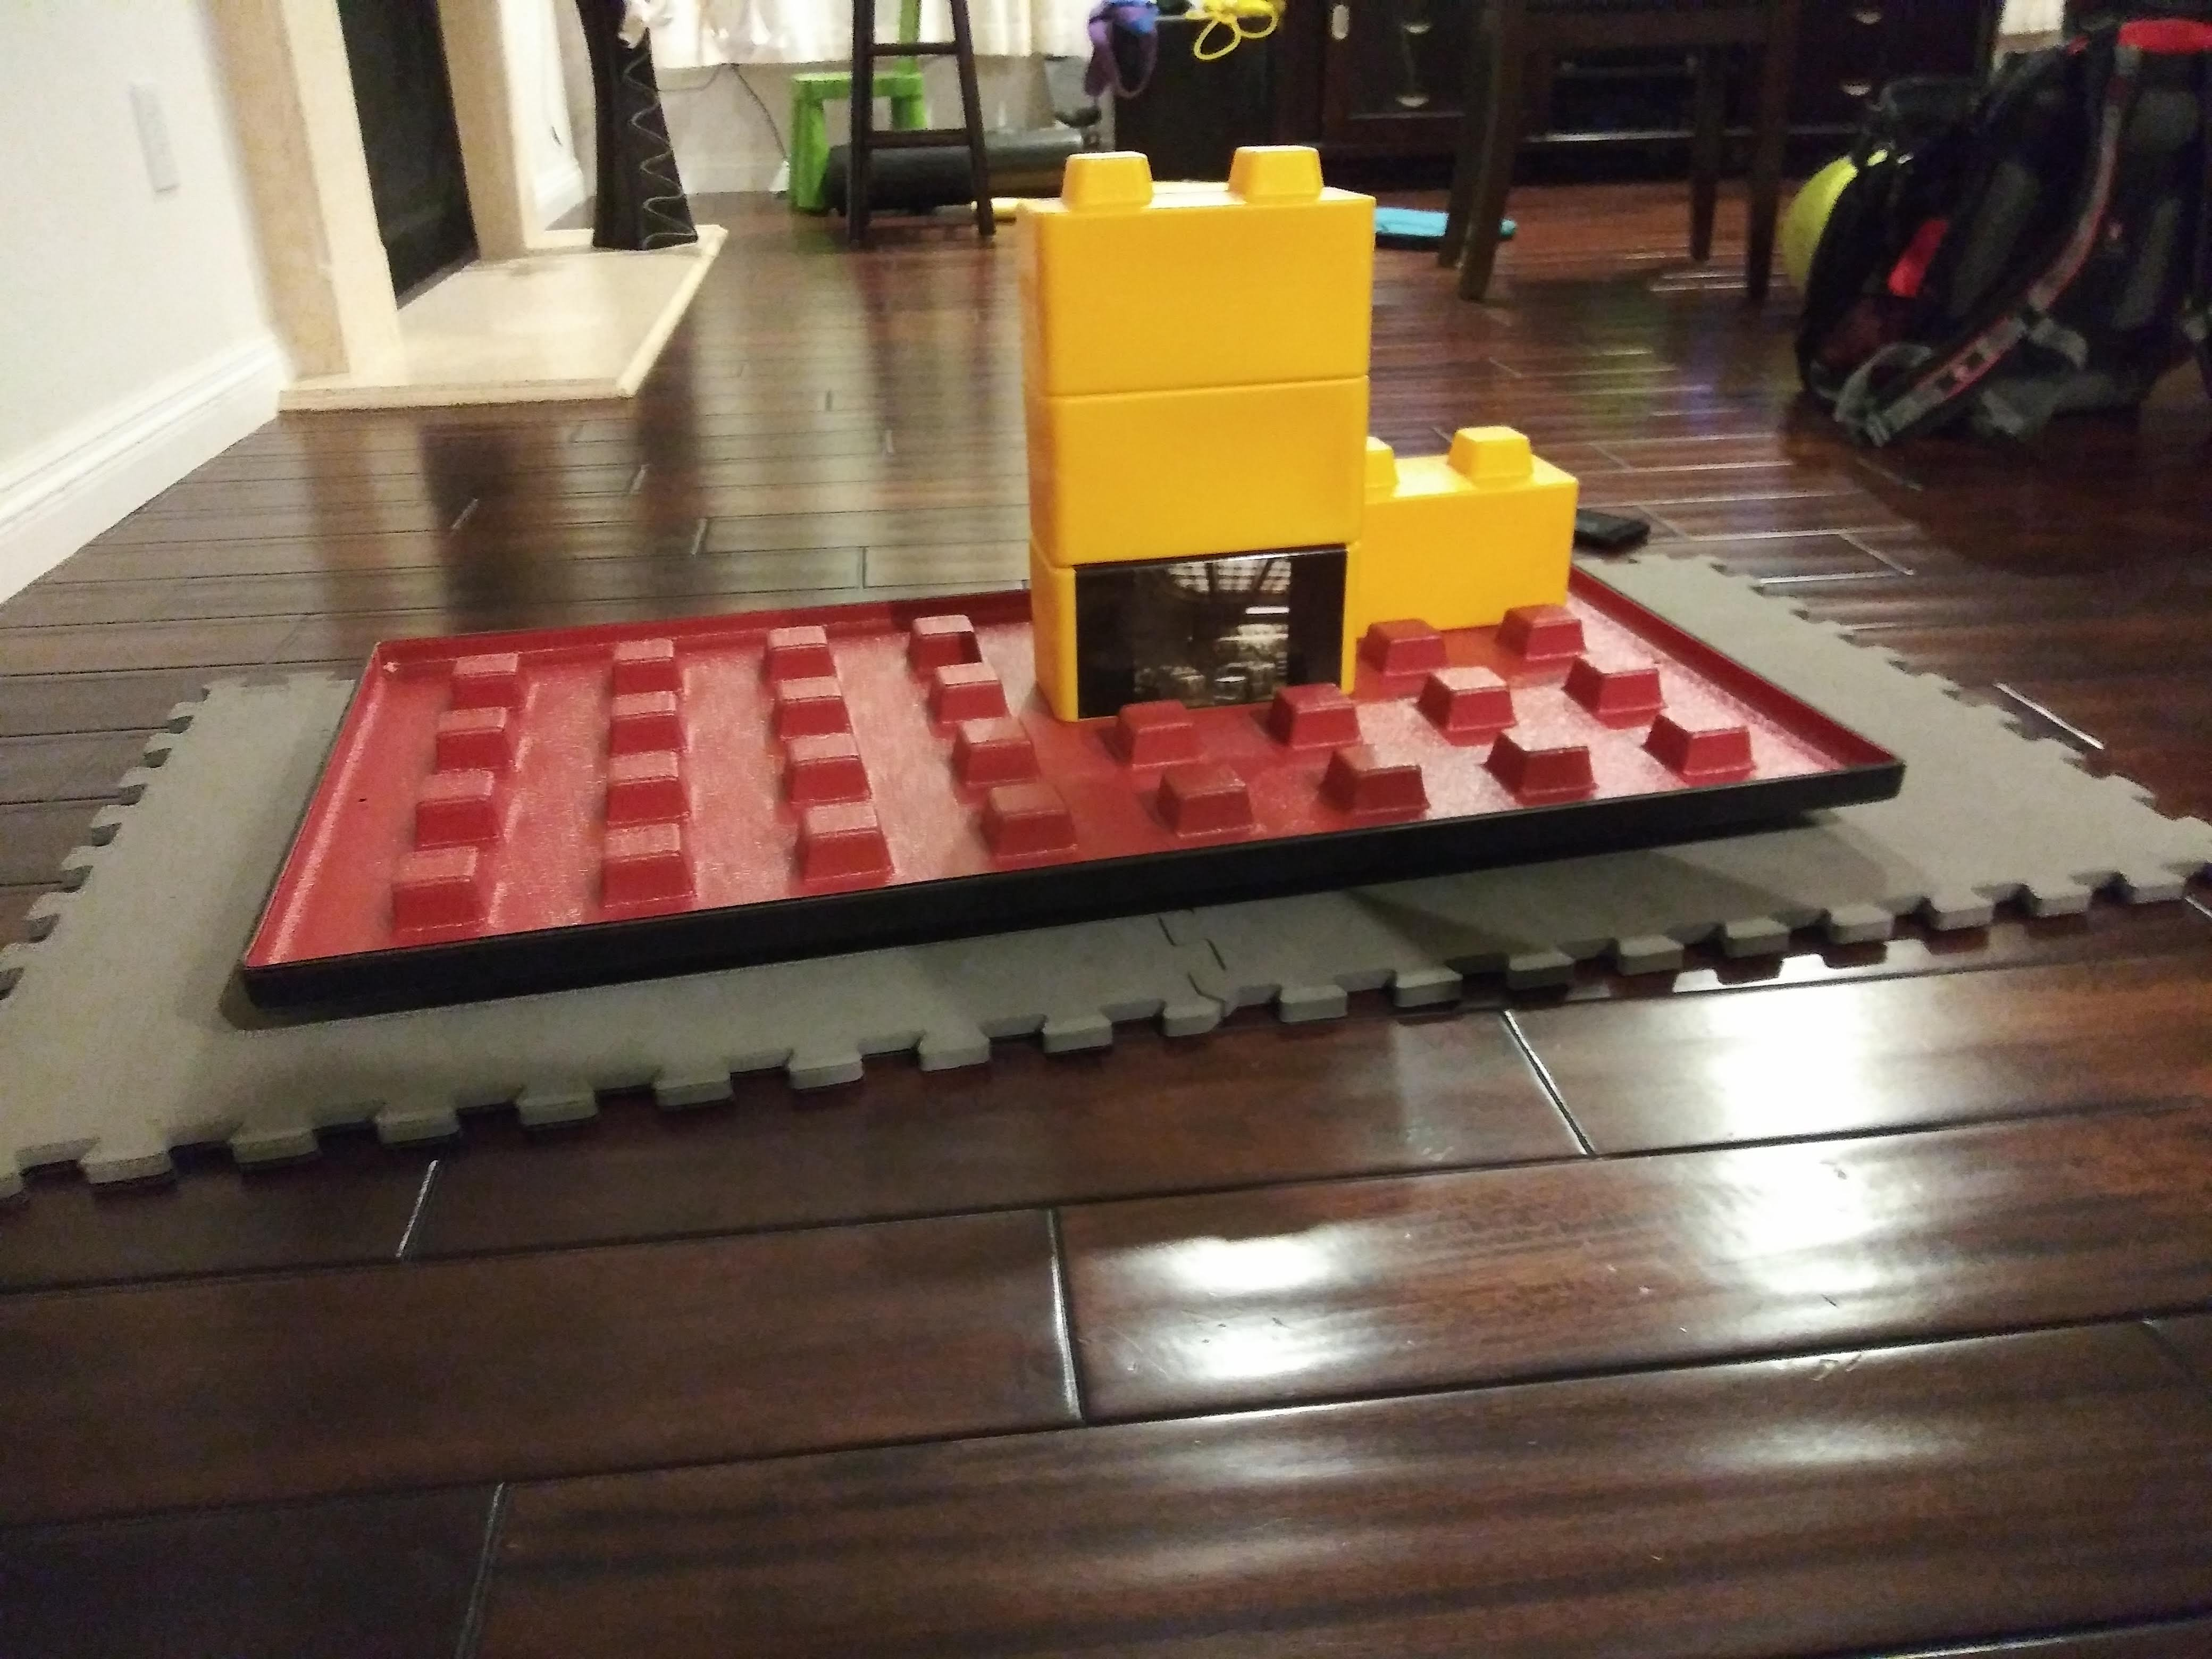red foundation: (242, 537, 1897, 979)
